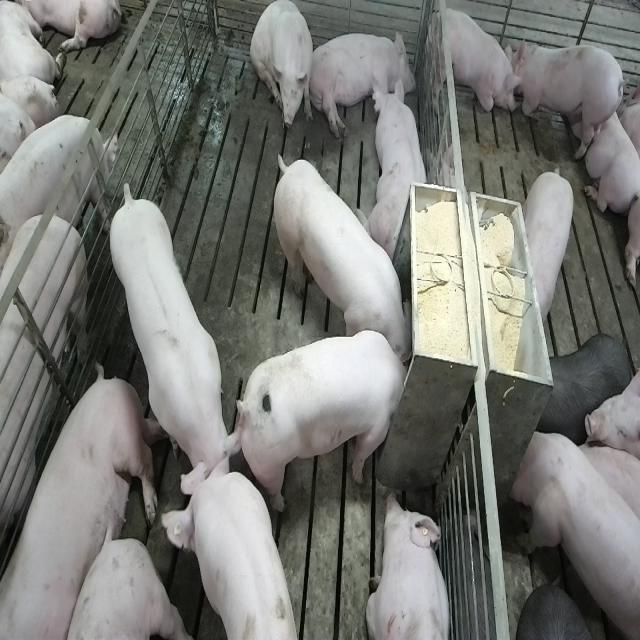Feeding: (243, 330, 418, 514), (269, 146, 411, 361)
Lateral_lying: (4, 366, 157, 640), (307, 28, 417, 140)
Sitting: (251, 2, 315, 138)
Standing: (108, 183, 245, 509), (0, 205, 89, 590), (510, 422, 638, 636), (164, 468, 303, 640), (0, 109, 116, 258), (538, 331, 630, 445), (523, 164, 578, 323)
Sternal_lying: (514, 31, 626, 154), (362, 75, 433, 260), (366, 490, 453, 640), (575, 83, 639, 212)
